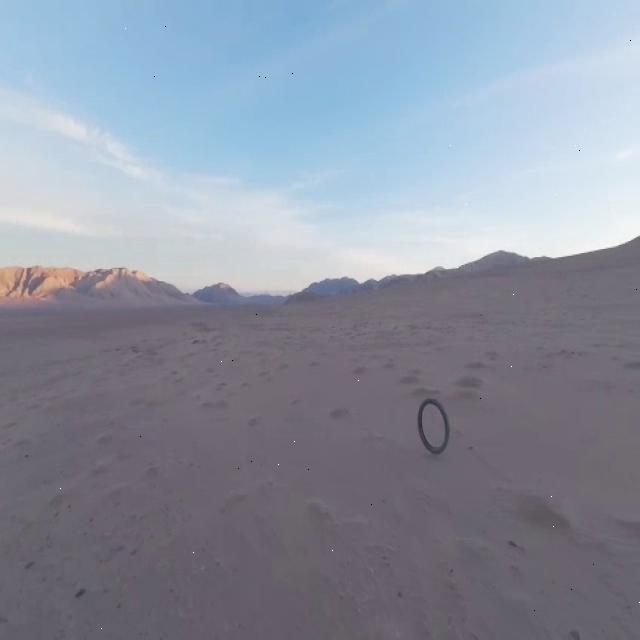Tire: (417, 398, 449, 454)
